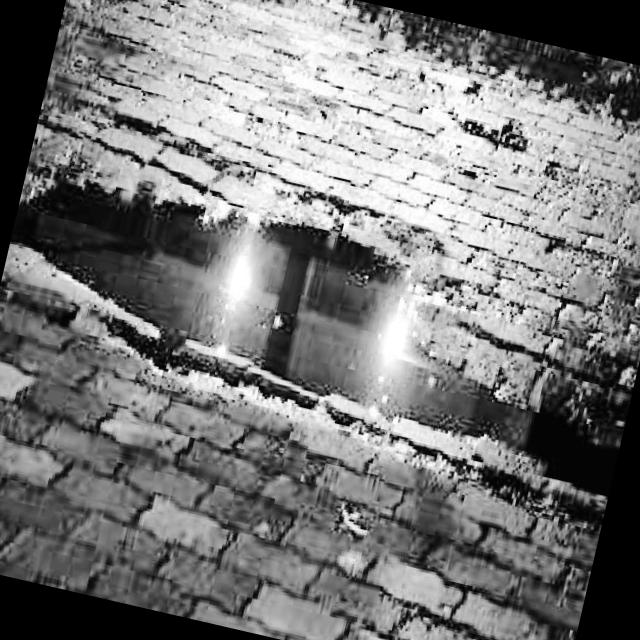Pothole: (0, 124, 640, 509)
